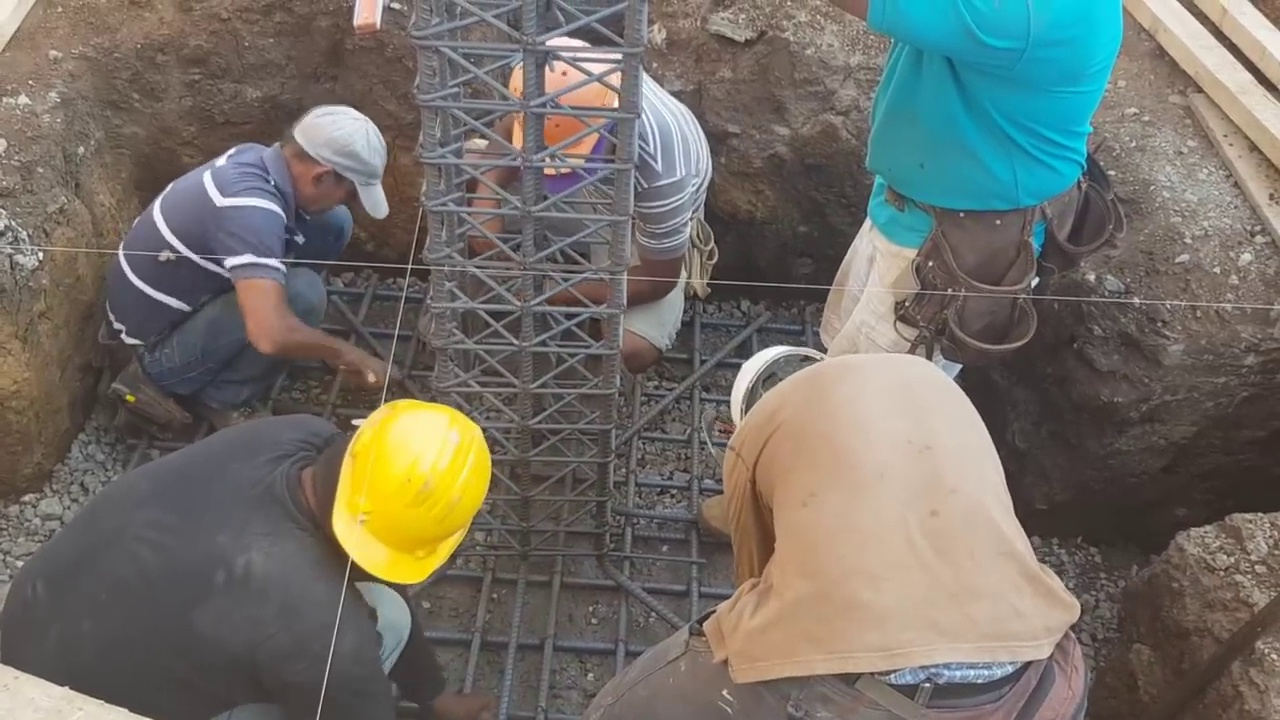helmet: (330, 390, 494, 598), (498, 45, 600, 147), (729, 348, 828, 425)
helmet-off: (285, 97, 391, 220)
helmet-on: (281, 388, 493, 593), (499, 39, 637, 192), (727, 336, 841, 437)
person: (585, 341, 1087, 720), (0, 399, 518, 720), (823, 4, 1130, 394), (101, 92, 413, 409), (462, 30, 712, 389)
